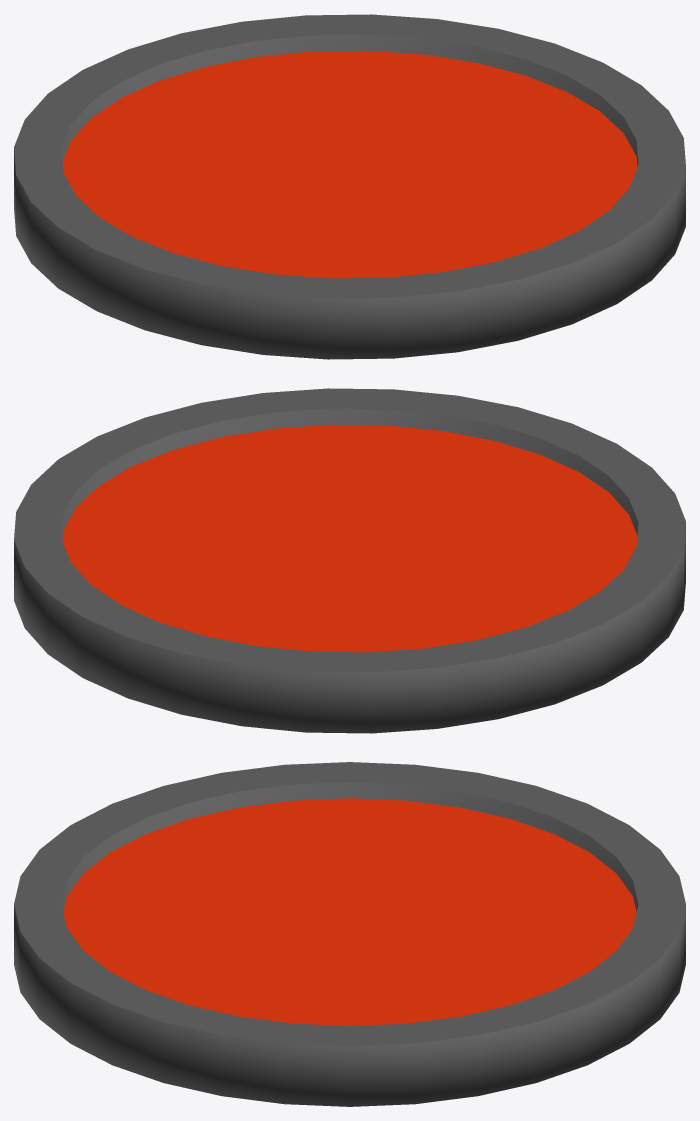
Rendered from Coin.fbx.
3 renders of one model, top to bottom at view 1: azimuth 30°, elevation 25°; view 2: azimuth 150°, elevation 25°; view 3: azimuth 270°, elevation 25°, orthographic.
Parts seen in each view (by area): view 1: Cylinder; view 2: Cylinder; view 3: Cylinder.
Part boxes in pixels (x1=…): Cylinder: x1=14, y1=14, x2=685, y2=359; Cylinder: x1=14, y1=388, x2=685, y2=733; Cylinder: x1=14, y1=762, x2=685, y2=1106.
Size of the model in its own units: 200 by 20 by 200.
